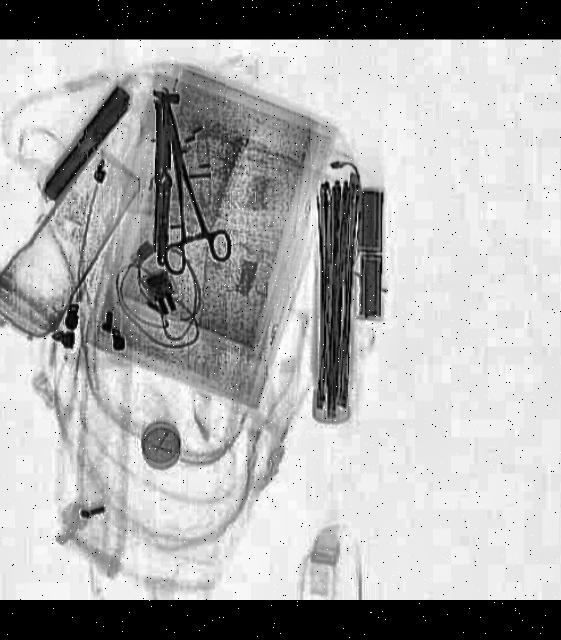Scissors: (130, 92, 233, 278)
